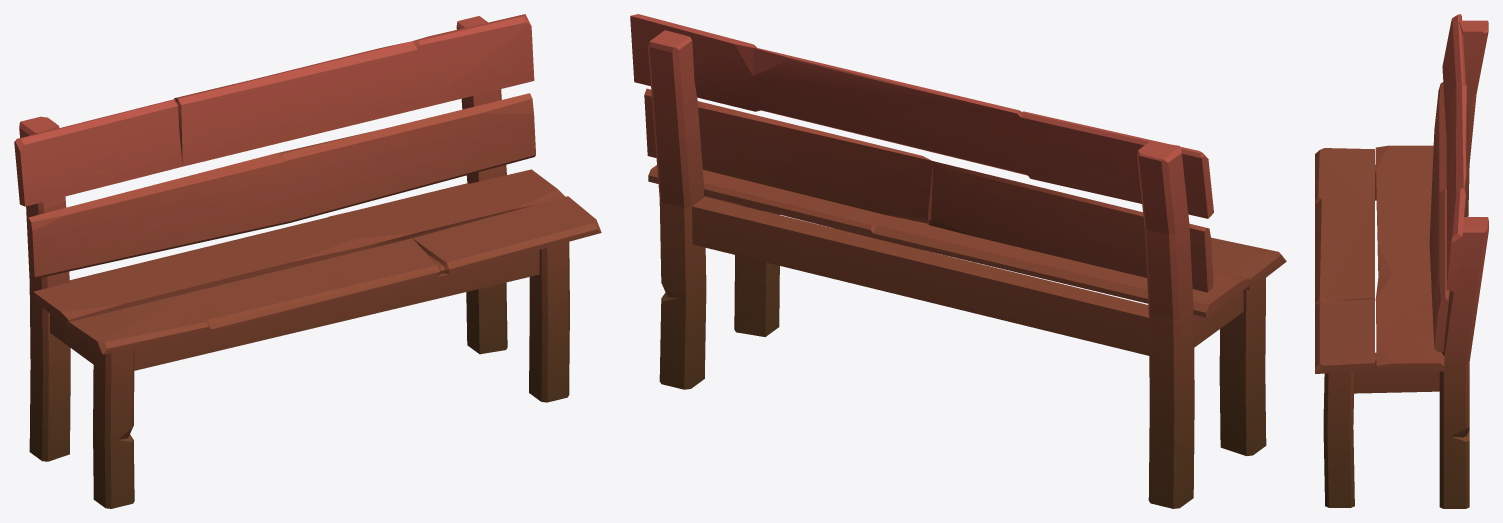
3 views of the same model, side by side, from view 1: azimuth 30°, elevation 25°; view 2: azimuth 150°, elevation 25°; view 3: azimuth 270°, elevation 25° (orthographic). The views are drawn at different scales.
Parts seen in each view (by area): view 1: Bench1; view 2: Bench1; view 3: Bench1.
Boxes of the visible parts, <box> form: Bench1: <box>14,14,601,508</box>; Bench1: <box>630,14,1286,508</box>; Bench1: <box>1315,14,1488,508</box>.
Bounding box in the file's own units: 180 × 108 × 59.3.
1 material, 1 textured.
